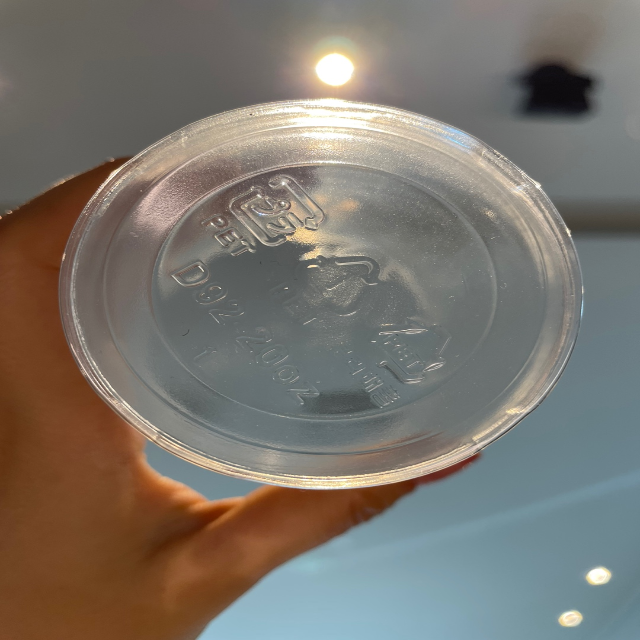pet: (199, 167, 331, 260), (332, 319, 461, 405), (272, 246, 387, 333)
